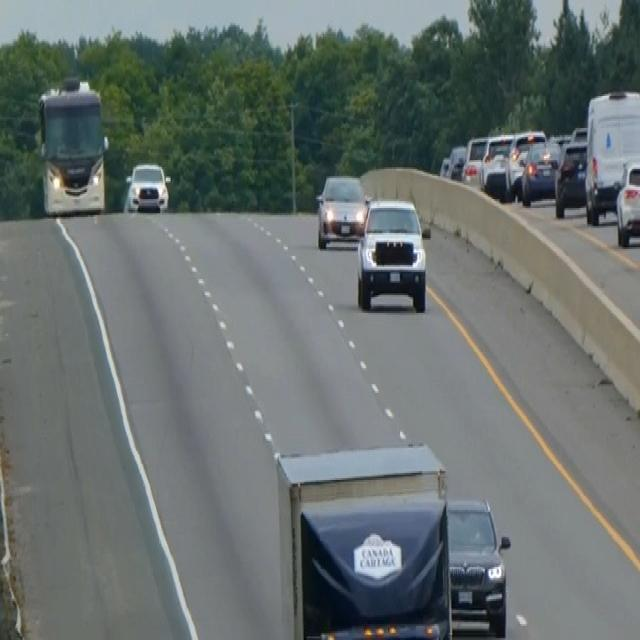bus: (35, 73, 110, 217)
car: (445, 494, 510, 638), (314, 171, 367, 247), (507, 128, 546, 197), (554, 137, 587, 217), (520, 139, 559, 206), (125, 160, 171, 213), (479, 132, 515, 199), (615, 153, 639, 247), (461, 133, 487, 185), (446, 144, 466, 180)
jeep: (353, 193, 430, 314)
lorry: (274, 439, 454, 637)
